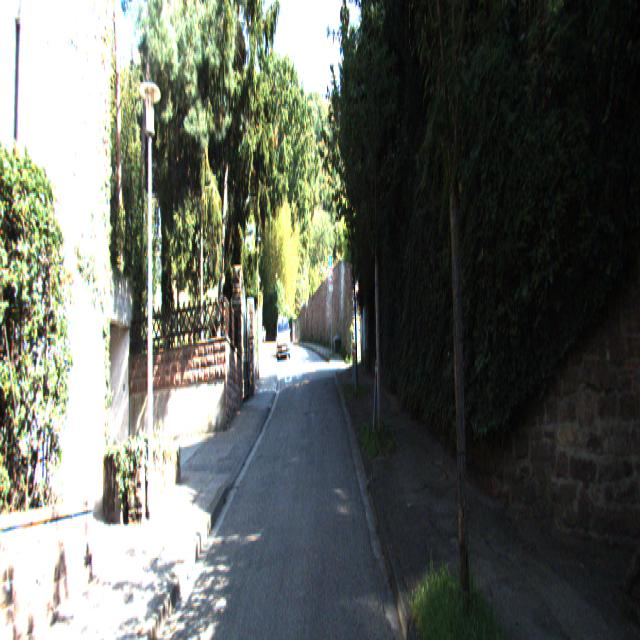Car: (276, 313, 290, 361)
